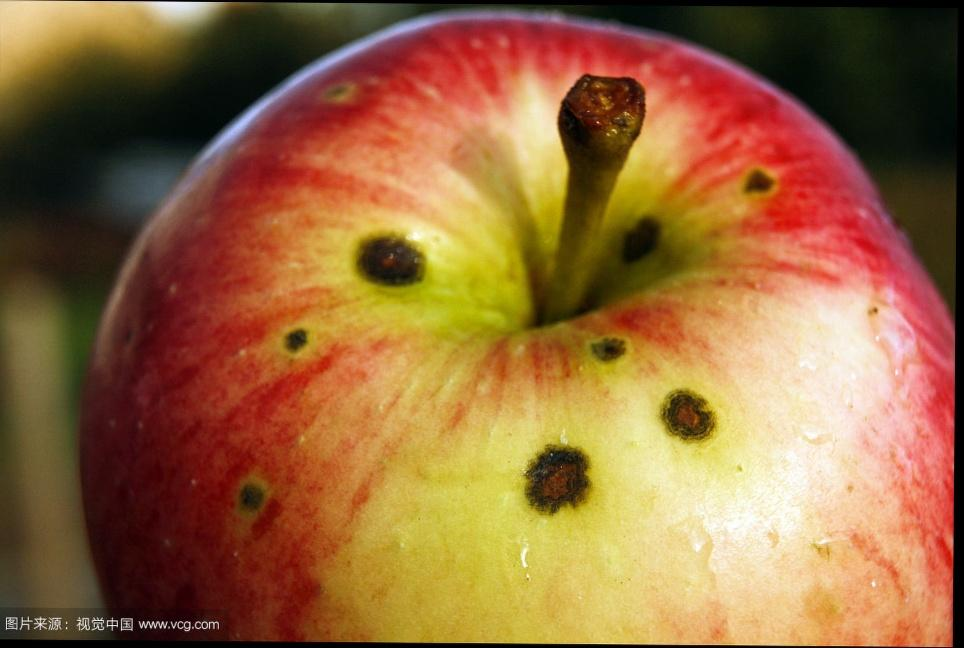rotten apple: (78, 5, 955, 644)
